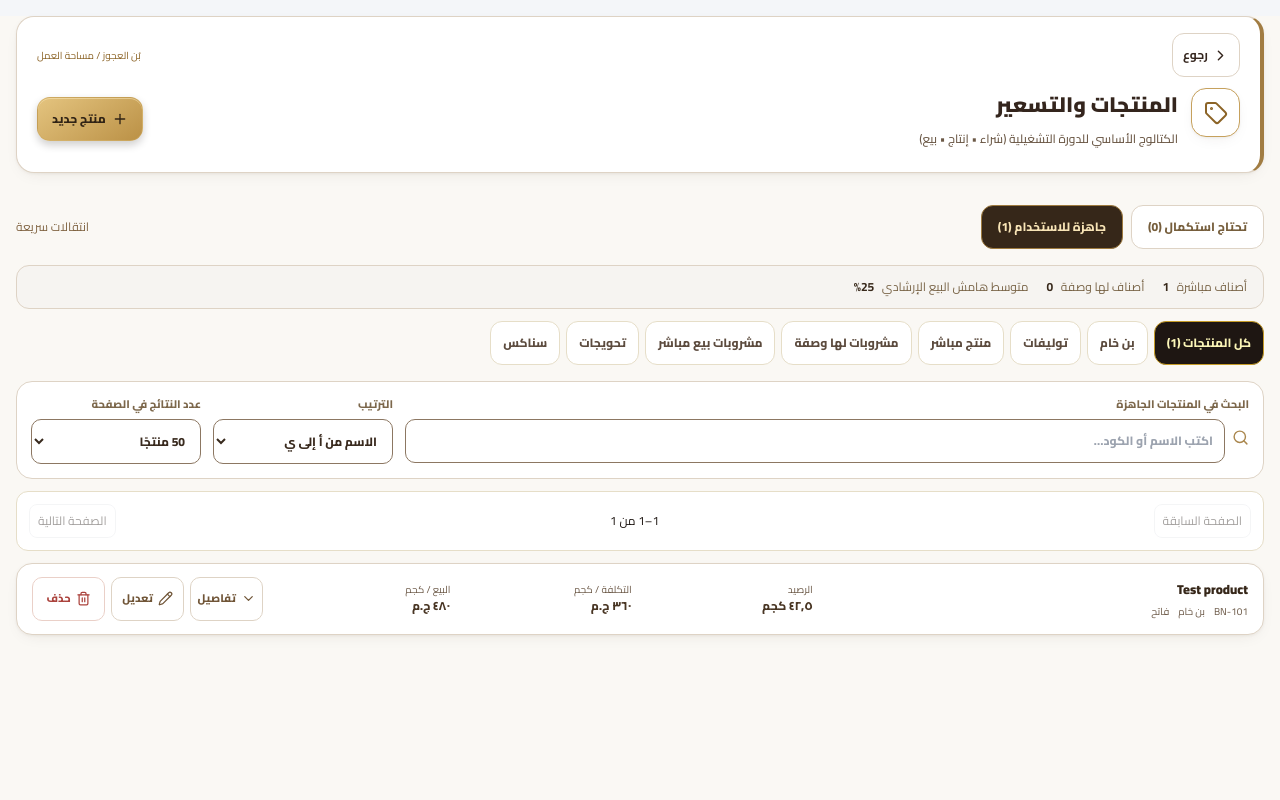
offers visible edit and delete actions with product-specific accessible names
This screenshot has width=1280, height=800.
Check: the button with aria-label "حذف المنتج Test product" reads "حذف", box x1=32 y1=576 x2=105 y2=620
Click the button with aria-label "تعديل المنتج Test product": (148, 598) x1=111 y1=576 x2=184 y2=620
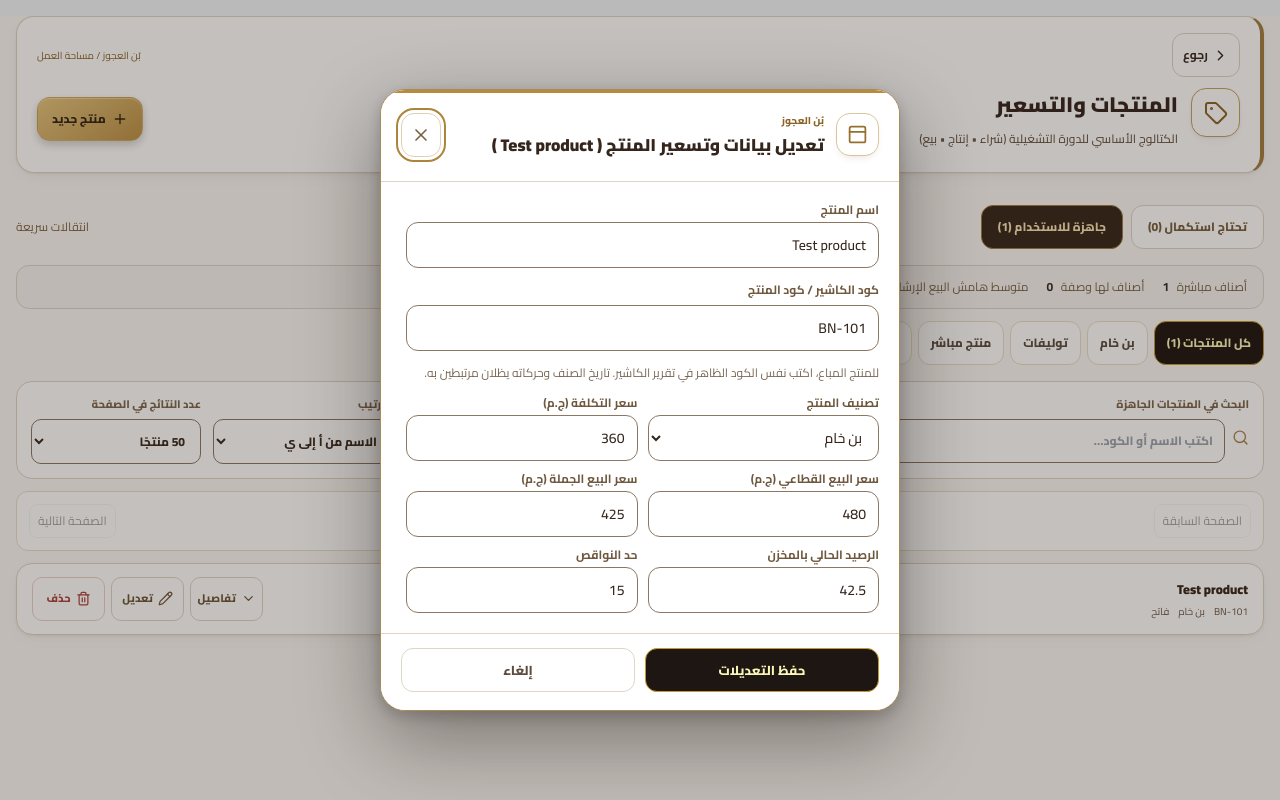
Check: the dialog shows "تعديل بيانات وتسعير المنتج", box x1=593 y1=129 x2=824 y2=161
